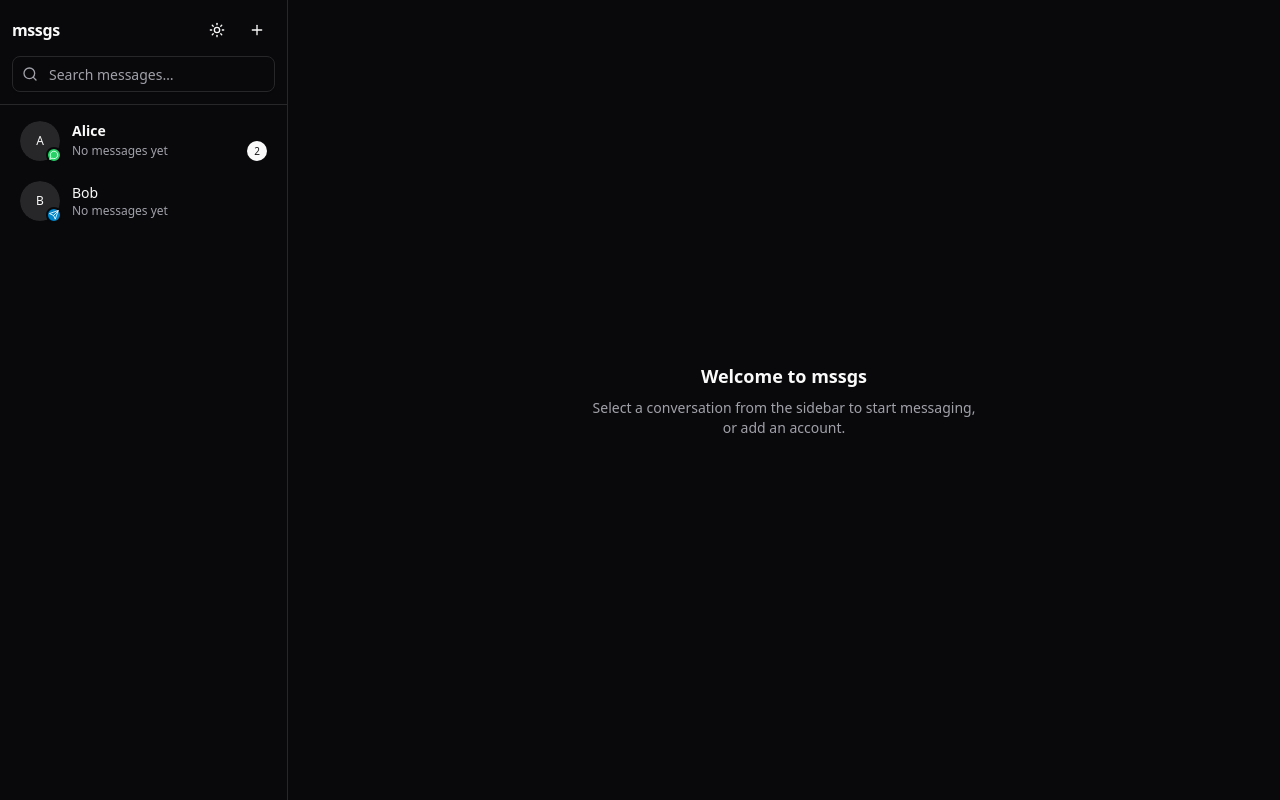
Scenario: App › renders the thread view when a conversation is active
This screenshot has width=1280, height=800.
What coordinates should you click on to do the following:
click the text "Alice"
I would click on:
 (89, 131)
Its box is left=72, top=121, right=106, bottom=141.
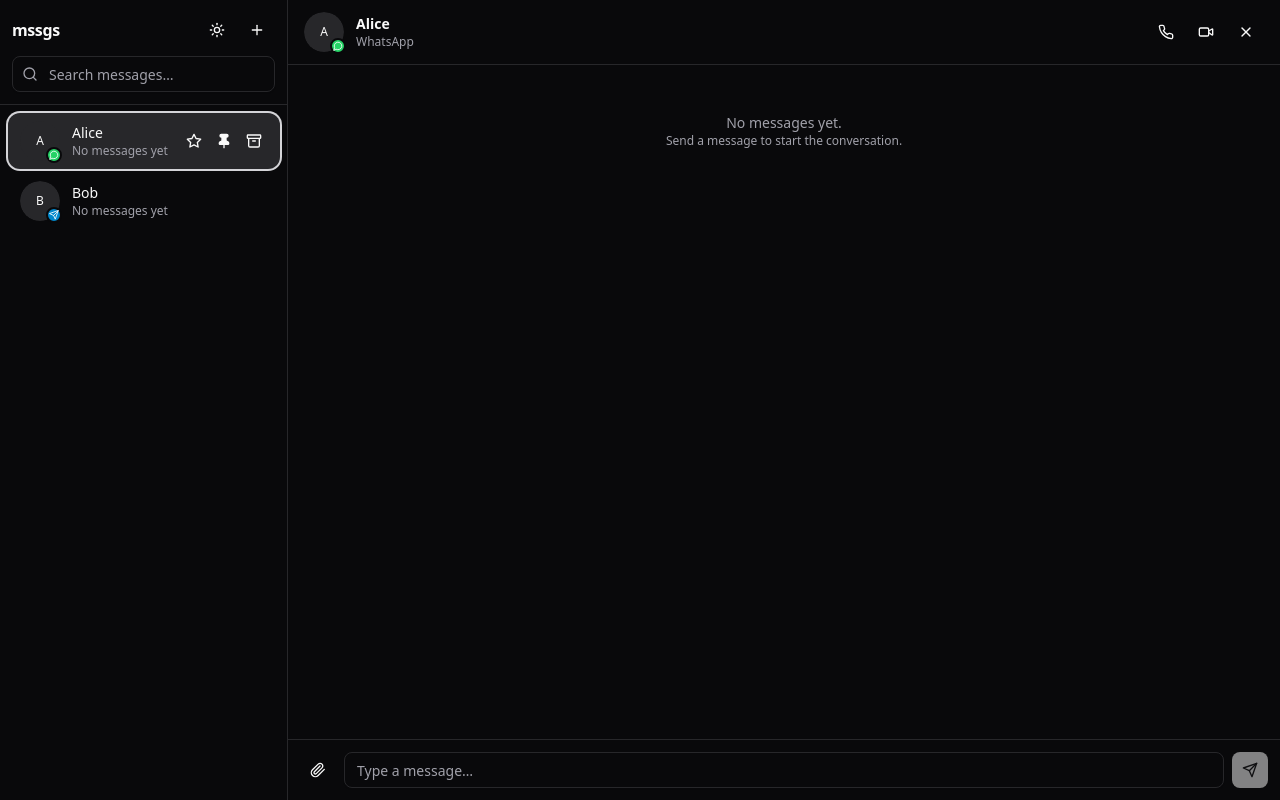
expect the heading "Welcome to mssgs" is gone: met
expect the text box named "Message input" is shown: met, box left=344, top=752, right=1224, bottom=788
